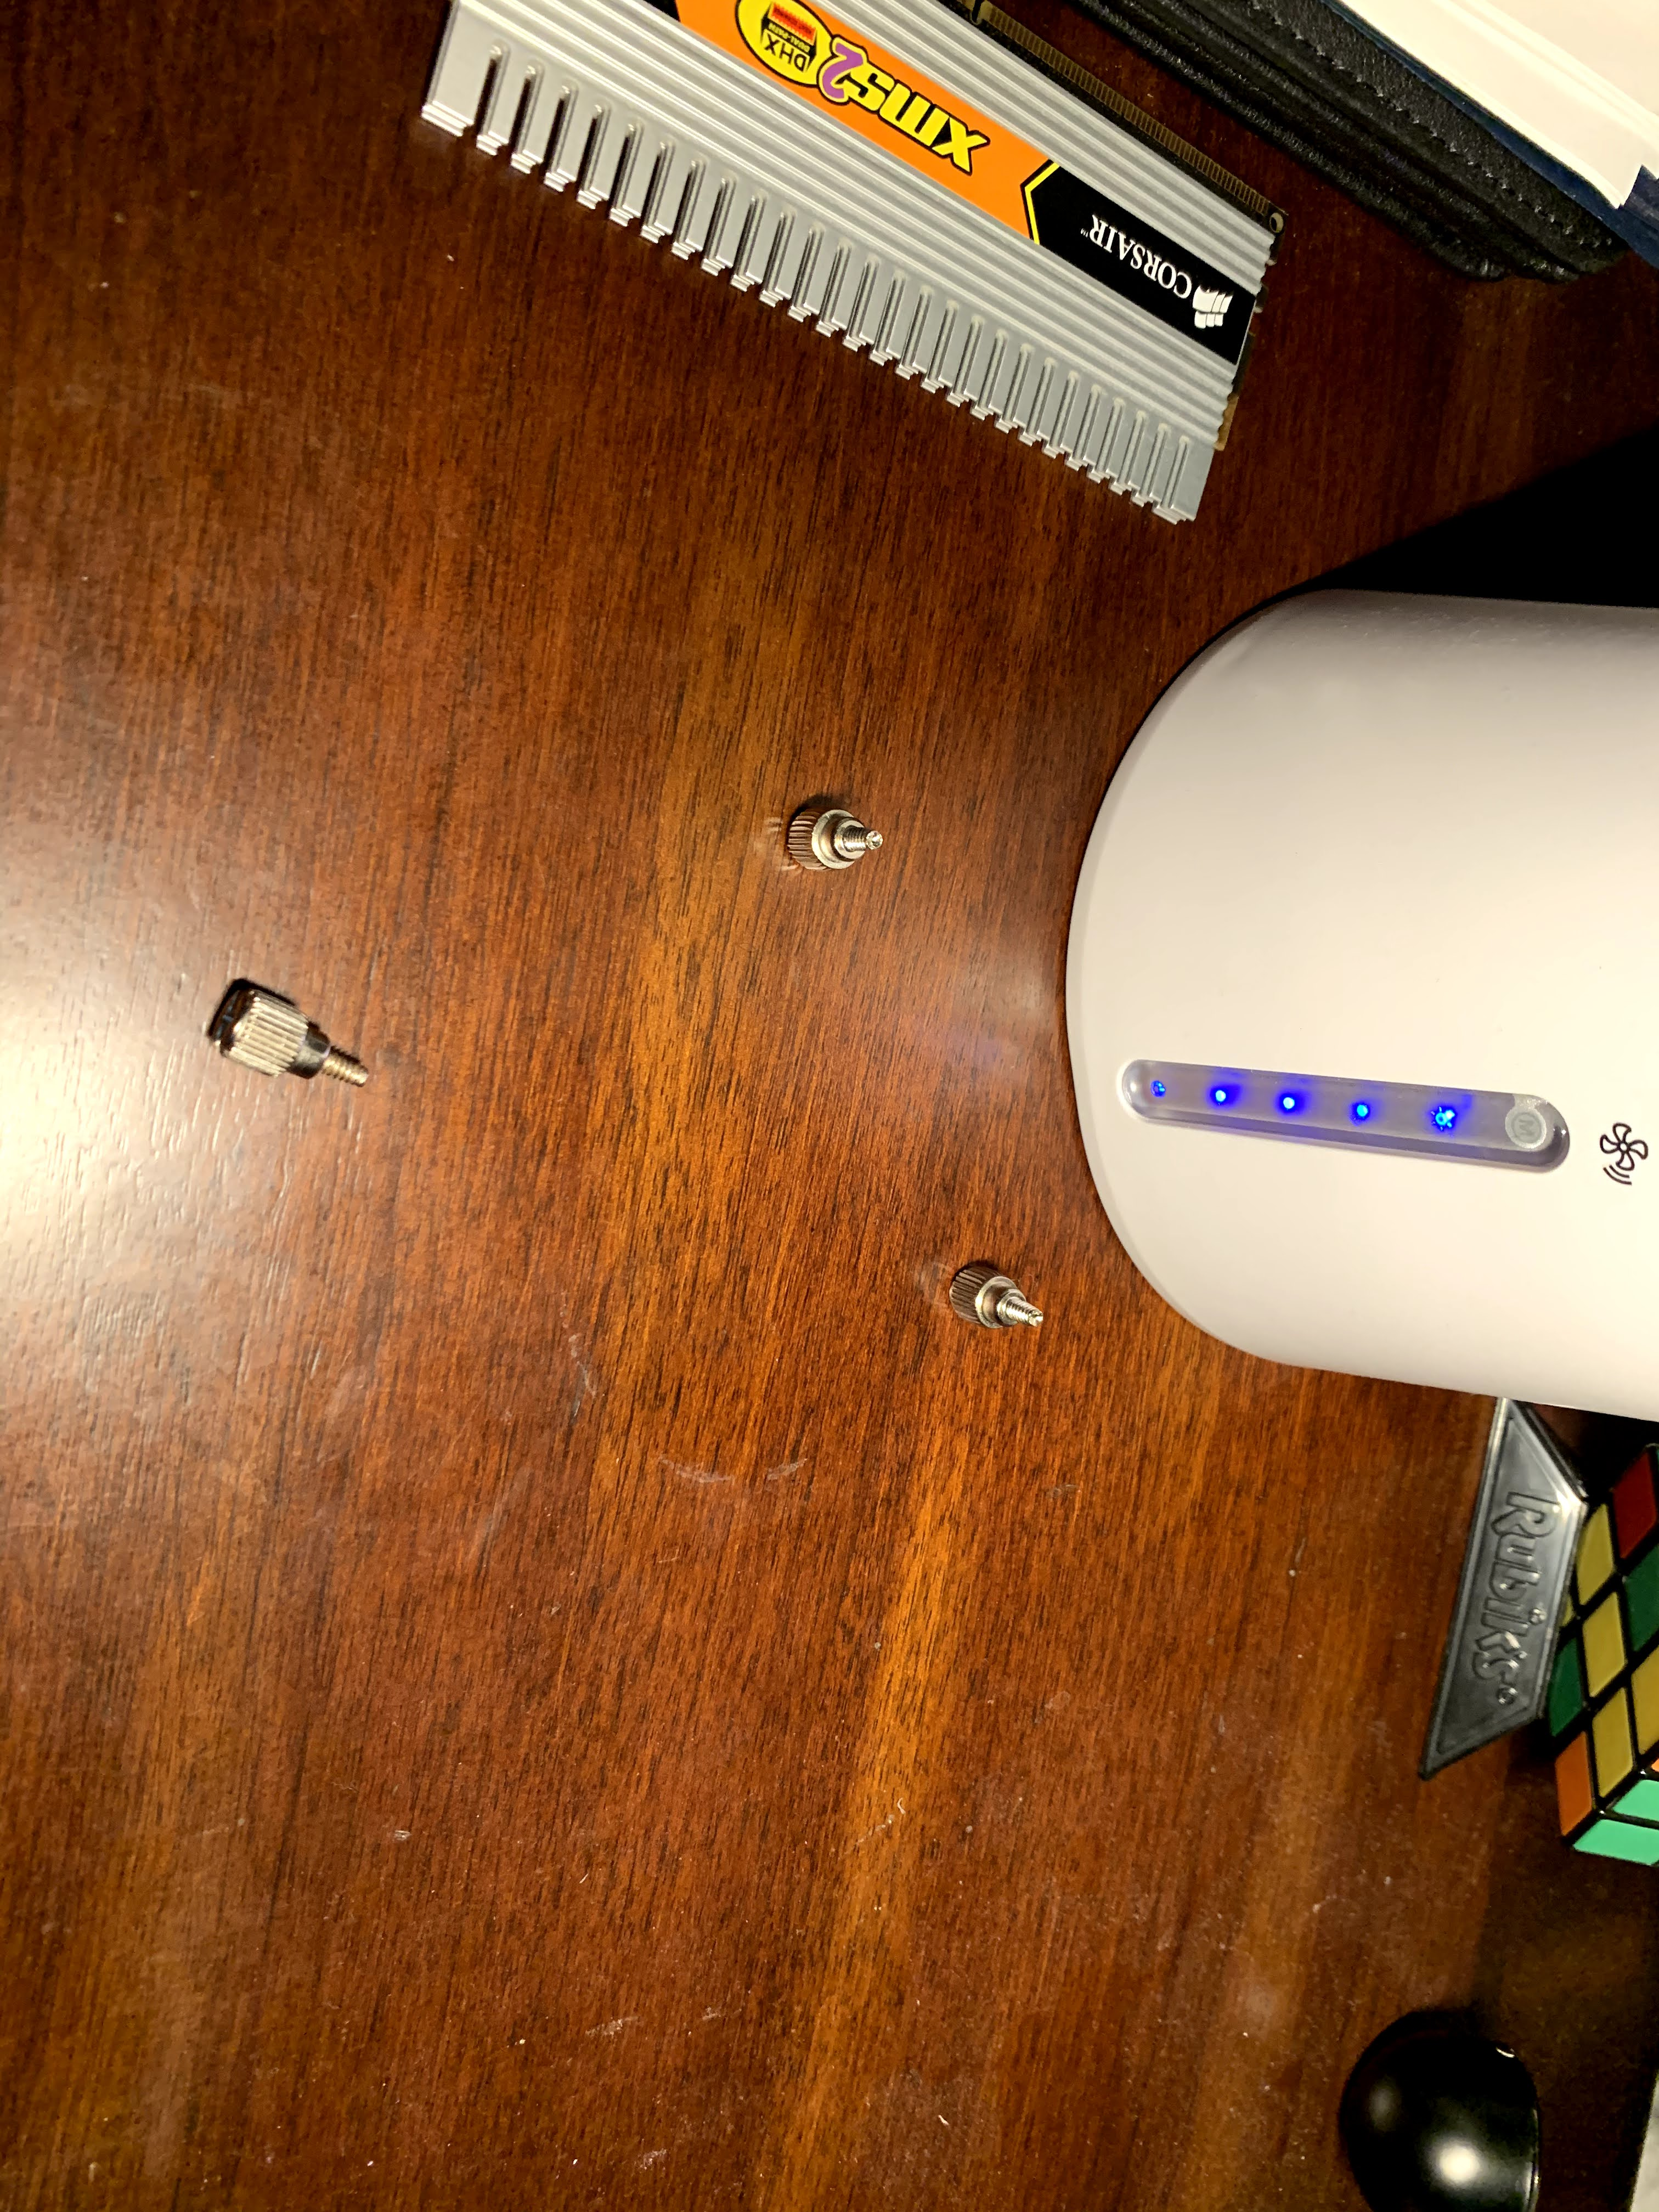Space-debris-medium: (413, 0, 1298, 536)
Space-debris-small: (209, 974, 376, 1090), (782, 798, 894, 880), (945, 1258, 1046, 1343)
